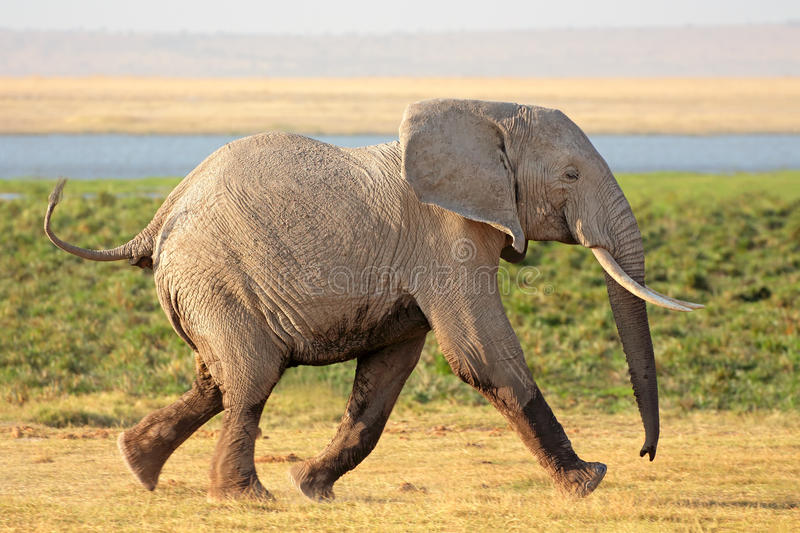elephant: (56, 94, 685, 515)
